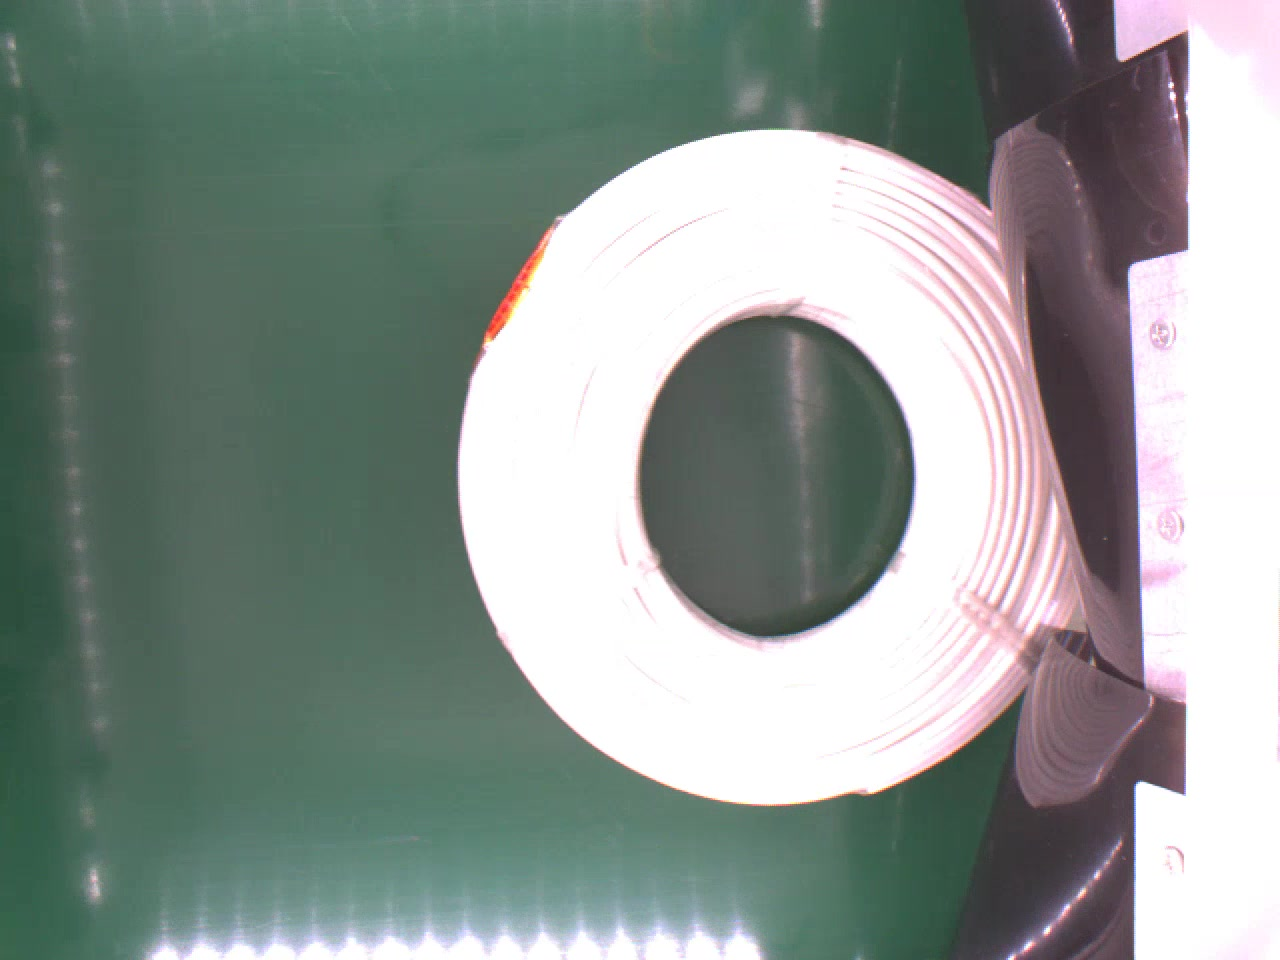white: (452, 129, 1074, 817)
